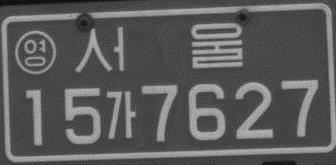1: (23, 87, 47, 148)
2: (234, 81, 276, 141)
5: (62, 85, 103, 147)
6: (186, 81, 227, 141)
7: (137, 83, 180, 143), (278, 78, 320, 139)
가: (103, 89, 136, 143)
서울_D: (71, 21, 247, 74)
영: (13, 28, 57, 75)
